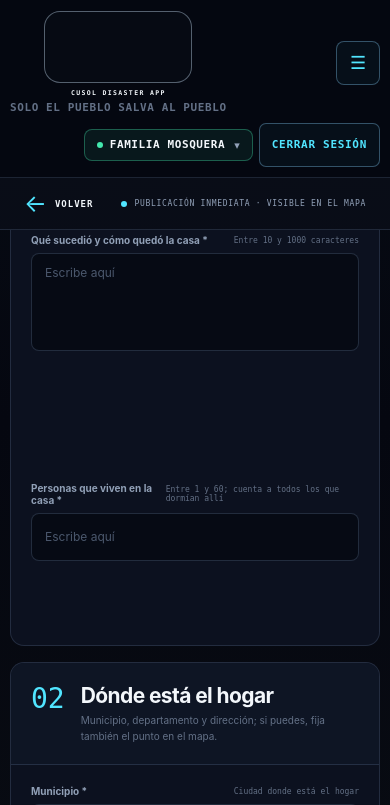
Test: DamagedHomeForm (CHG-182) › bloquea el envío incompleto con el resumen de errores
This screenshot has width=390, height=805.
(page scrolled)
Solo se llena una parte: el resto tiene que reclamarse.
Type "5" into the field named "Personas que viven en la casa *". click: (195, 537)
box: [31,513,359,561]
(page scrolled)
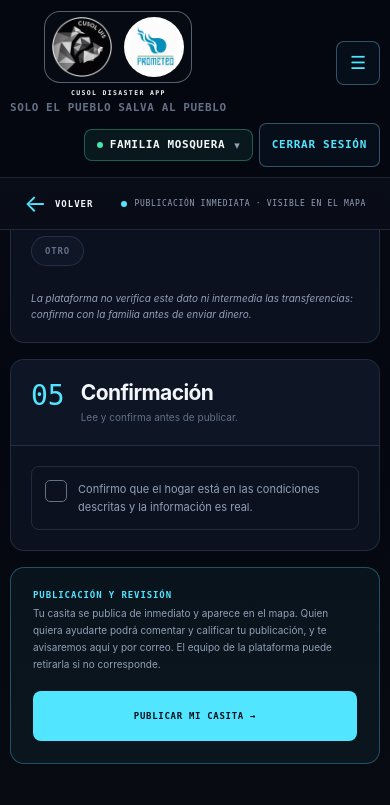
Click the button with aria-label "Publicar mi casita destruida". click: (195, 716)
box: [33,691,357,741]
(page scrolled)
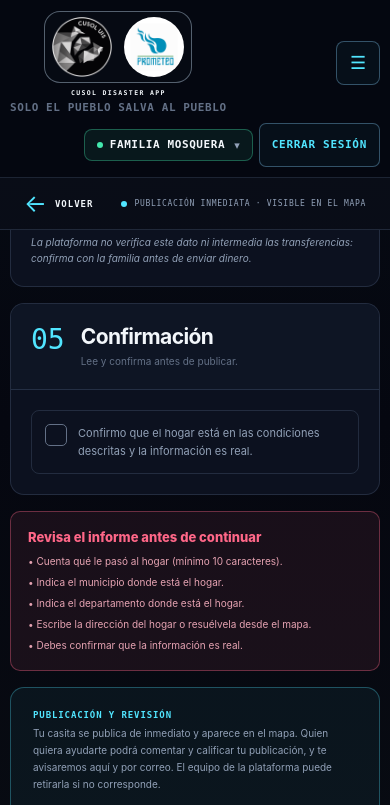
Check: the text "Revisa el informe antes de continuar" is shown, box [28,529,261,545]
